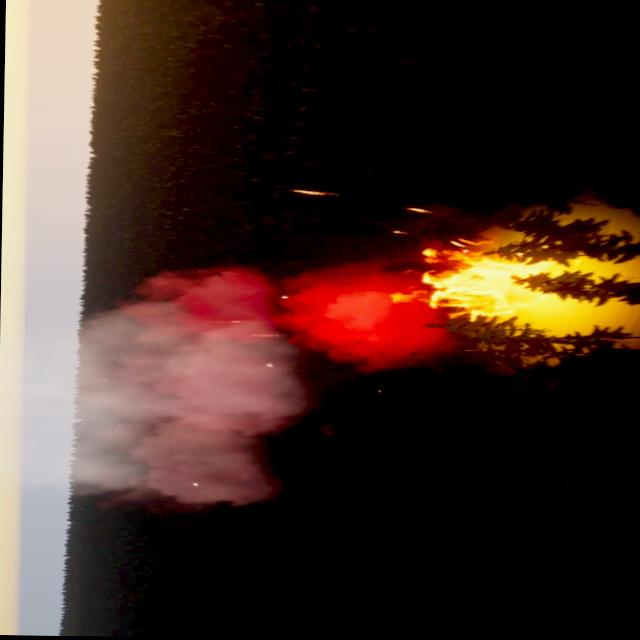fire: (418, 244, 542, 317)
smoke: (50, 259, 288, 501), (279, 264, 437, 366)
